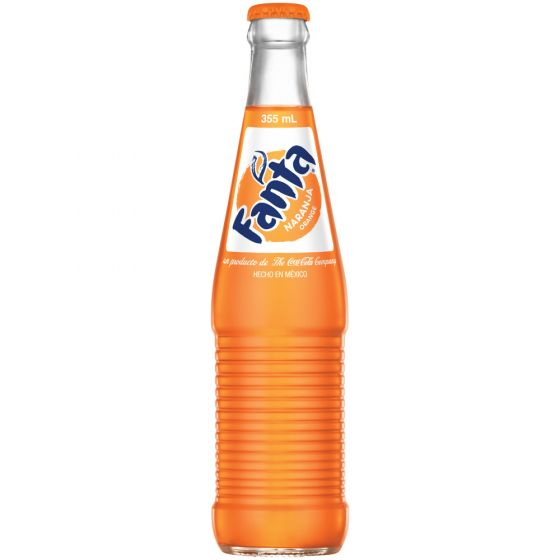Fanta: (204, 8, 354, 550)
